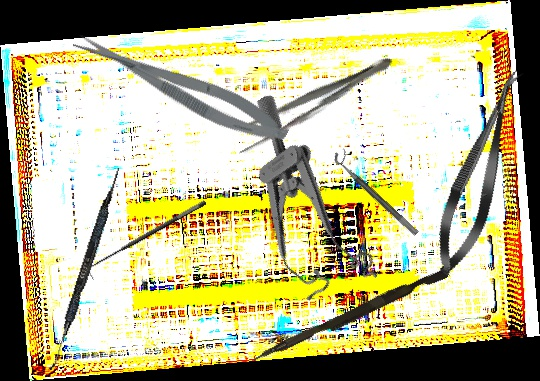Dressing Forceps: (227, 47, 399, 159)
Fixation Ring: (330, 146, 426, 237)
Hook Surgical: (84, 198, 212, 280)
Micro Scissor: (69, 19, 294, 154), (424, 62, 536, 282)
Pusher: (251, 263, 449, 370)
Spatula Surgical: (48, 165, 123, 373)
Speculum: (195, 92, 395, 318)
